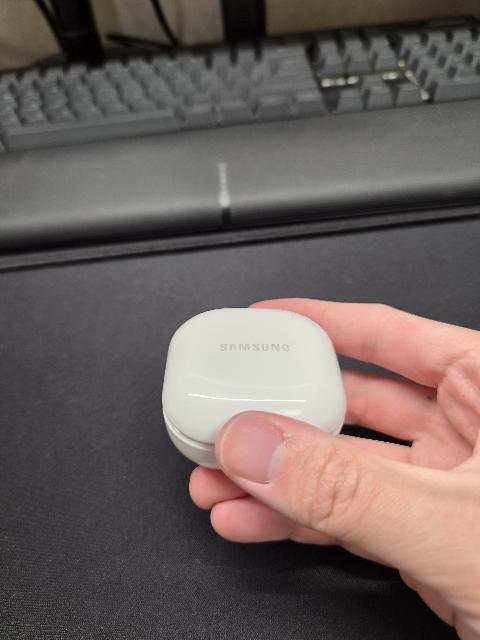earphone_case: (162, 307, 347, 470)
